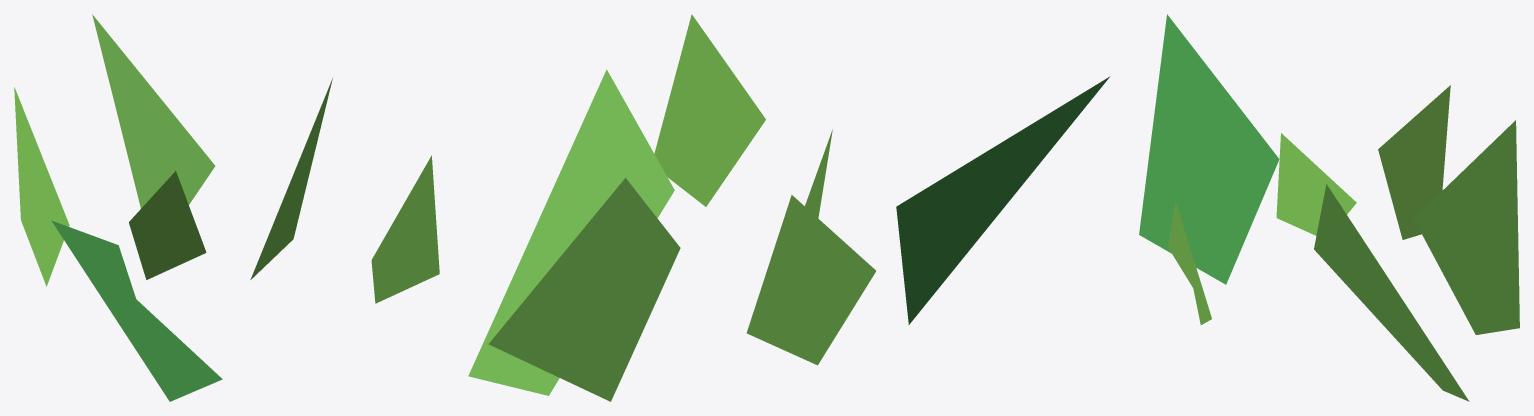
File: potatoe_seeded.glb
3 views of the same model, side by side, from view 1: azimuth 30°, elevation 25°; view 2: azimuth 150°, elevation 25°; view 3: azimuth 270°, elevation 25° (orthographic). The views are drawn at different scales.
Visible parts, largest first — view 1: Plane.065, Plane.070, Plane.068, Plane.073, Plane.072, Plane.071; view 2: Plane.065, Plane.071, Plane.070, Plane.073, Plane.068, Plane.072; view 3: Plane.070, Plane.065, Plane.071, Plane.073, Plane.072, Plane.068.
Part boxes in pixels (x1,y1,x2,y2): Plane.065: [92, 14, 215, 208]; Plane.070: [51, 220, 222, 401]; Plane.068: [371, 155, 439, 303]; Plane.073: [14, 87, 69, 286]; Plane.072: [129, 171, 206, 279]; Plane.071: [250, 78, 332, 279]; Plane.065: [488, 178, 680, 401]; Plane.071: [468, 69, 674, 395]; Plane.070: [896, 76, 1110, 324]; Plane.073: [746, 195, 875, 365]; Plane.068: [654, 14, 765, 206]; Plane.072: [805, 129, 832, 217]; Plane.070: [1139, 14, 1279, 284]; Plane.065: [1413, 120, 1519, 334]; Plane.071: [1314, 184, 1469, 401]; Plane.073: [1378, 85, 1450, 239]; Plane.072: [1276, 133, 1356, 235]; Plane.068: [1168, 202, 1211, 324].
Bounding box in the file's own units: 0.4946 × 0.3006 × 0.4572.
